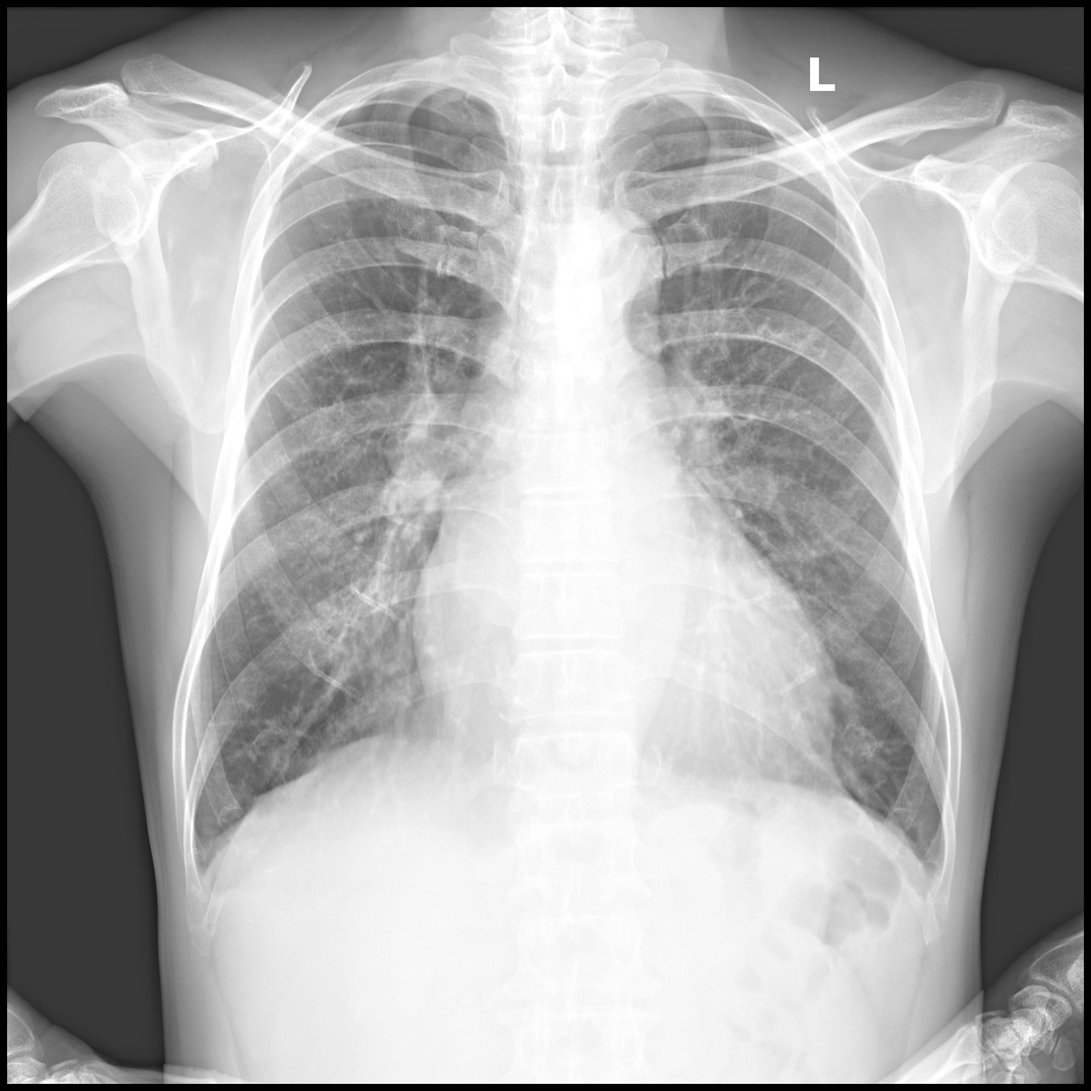Aortic enlargement: (558, 210, 664, 308)
Cardiomegaly: (406, 600, 837, 783)
Pleural thickening: (354, 80, 464, 99)
